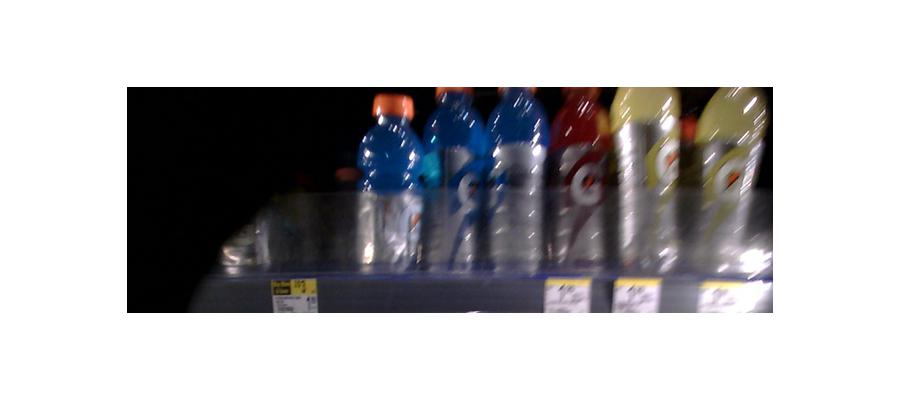bottle: (690, 82, 773, 281), (617, 85, 686, 271), (355, 92, 423, 279), (487, 86, 547, 276), (427, 84, 486, 277), (552, 84, 608, 273)
